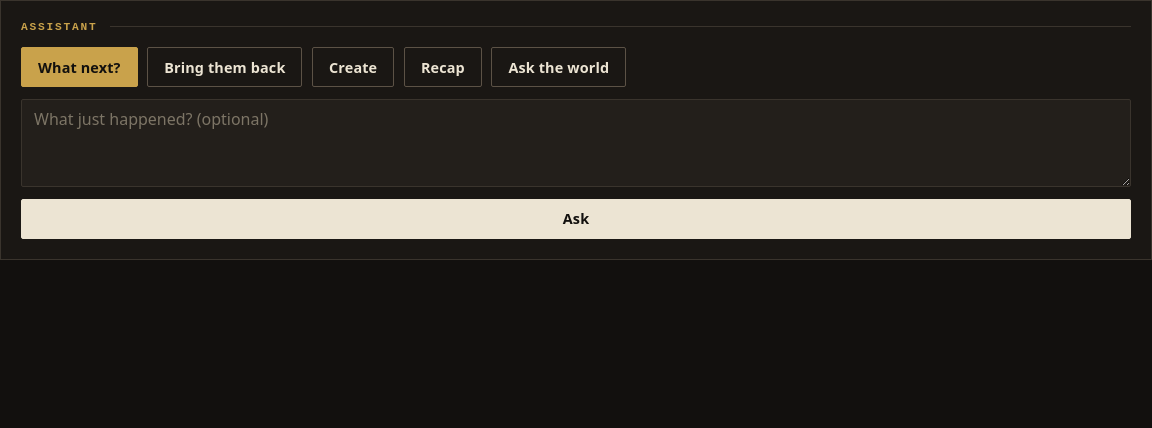
Test case: AssistantPanel › generates the chosen kind of thing from a brief
Click the button with test id "job-generate". click: (353, 67)
box: [312, 47, 394, 87]
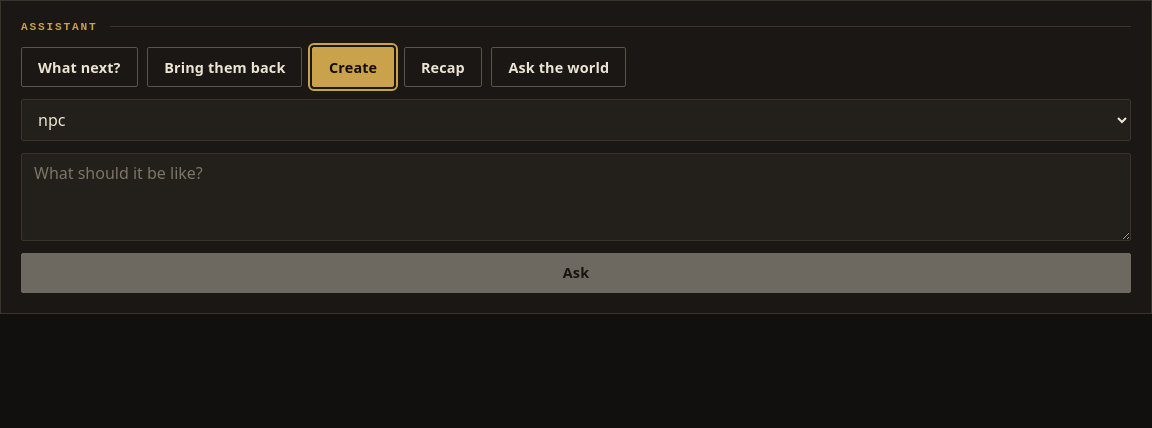
Select "quest" in the dropdown with test id "job-what". click: (576, 120)
box: [21, 99, 1131, 141]
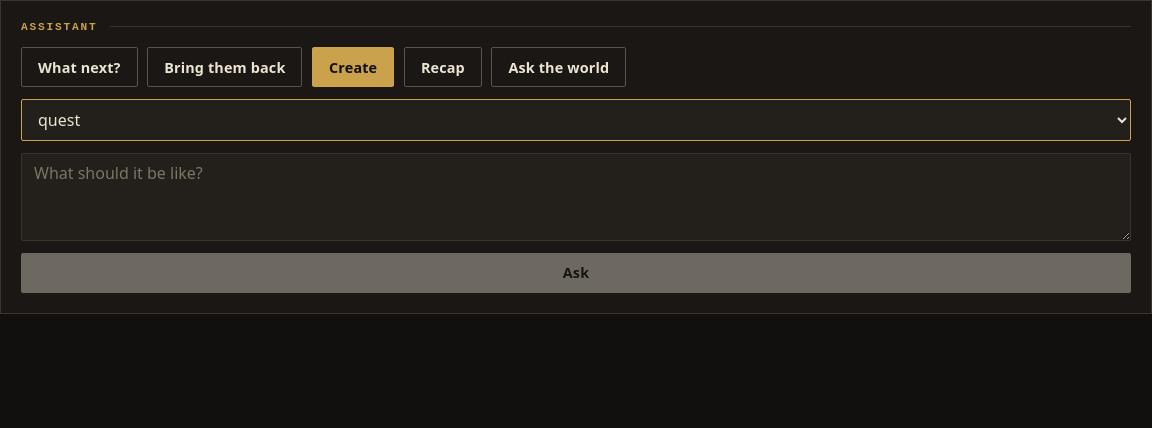
Type "A side job at the docks." into the text box with test id "job-text". click: (576, 197)
box: [21, 153, 1131, 241]
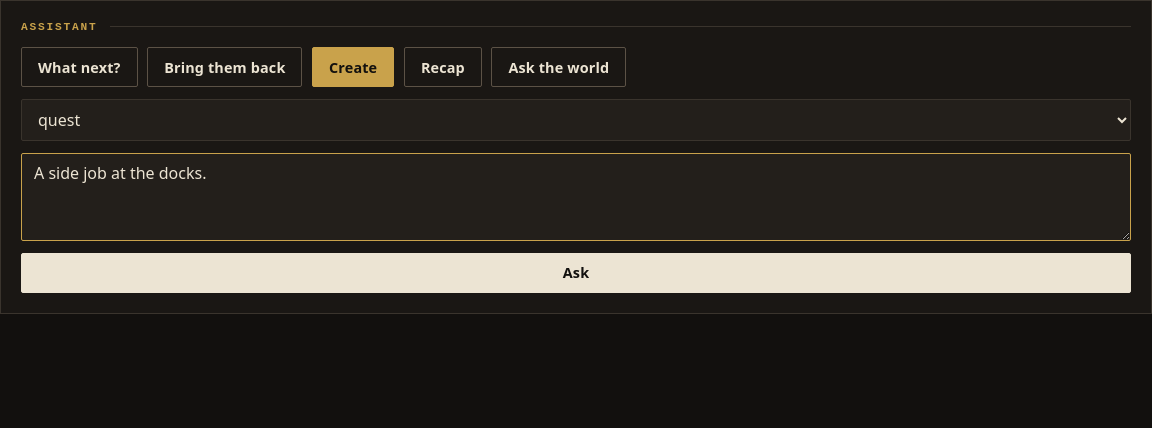
Click the button with test id "ai-ask". click: (576, 273)
box: [21, 253, 1131, 293]
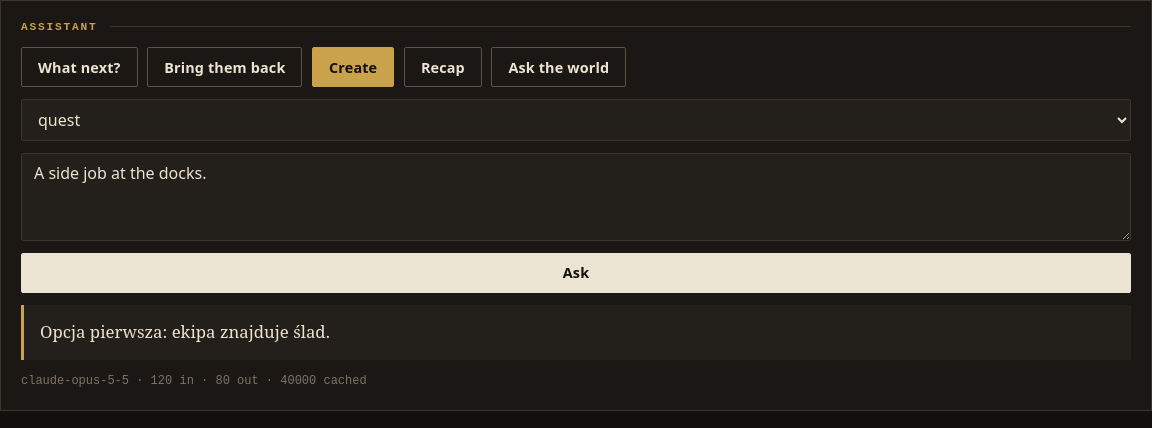
expect the text "Opcja pierwsza: ekipa znajduje ślad." is shown: met, box [21, 305, 1131, 360]
